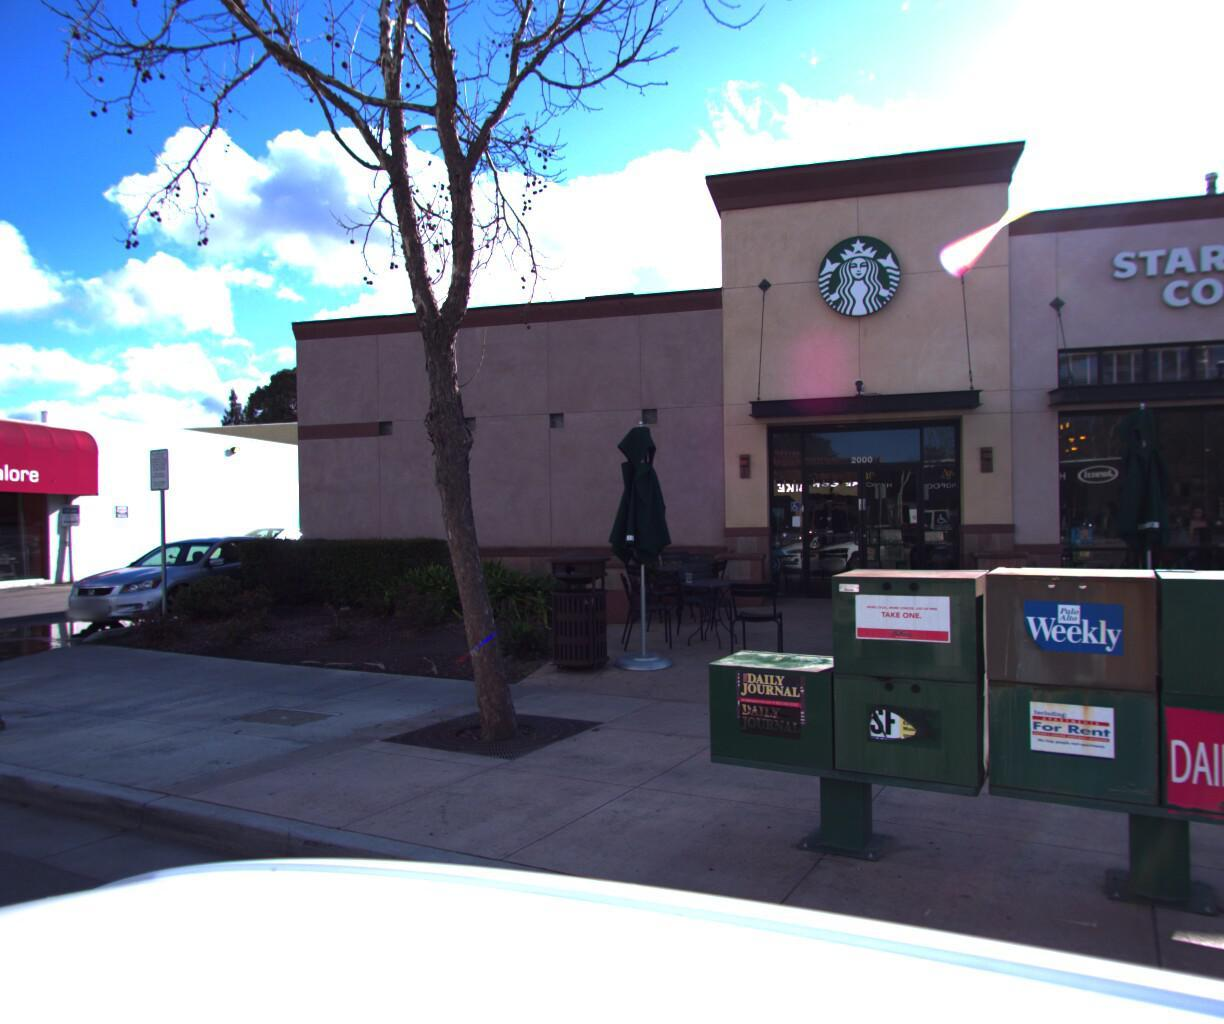car: (42, 532, 333, 639)
